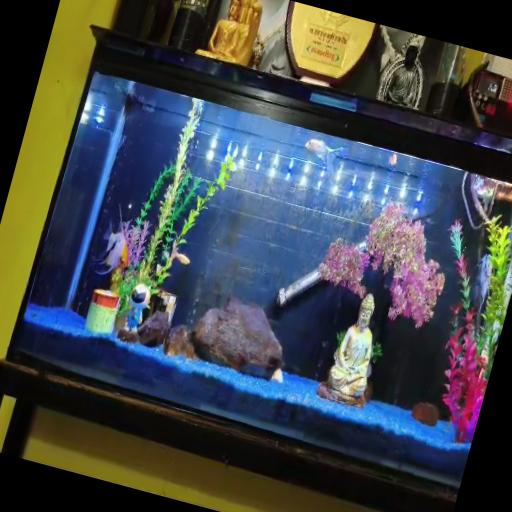Fish: (93, 211, 128, 274), (305, 139, 344, 173), (476, 254, 492, 314), (389, 155, 397, 166)
